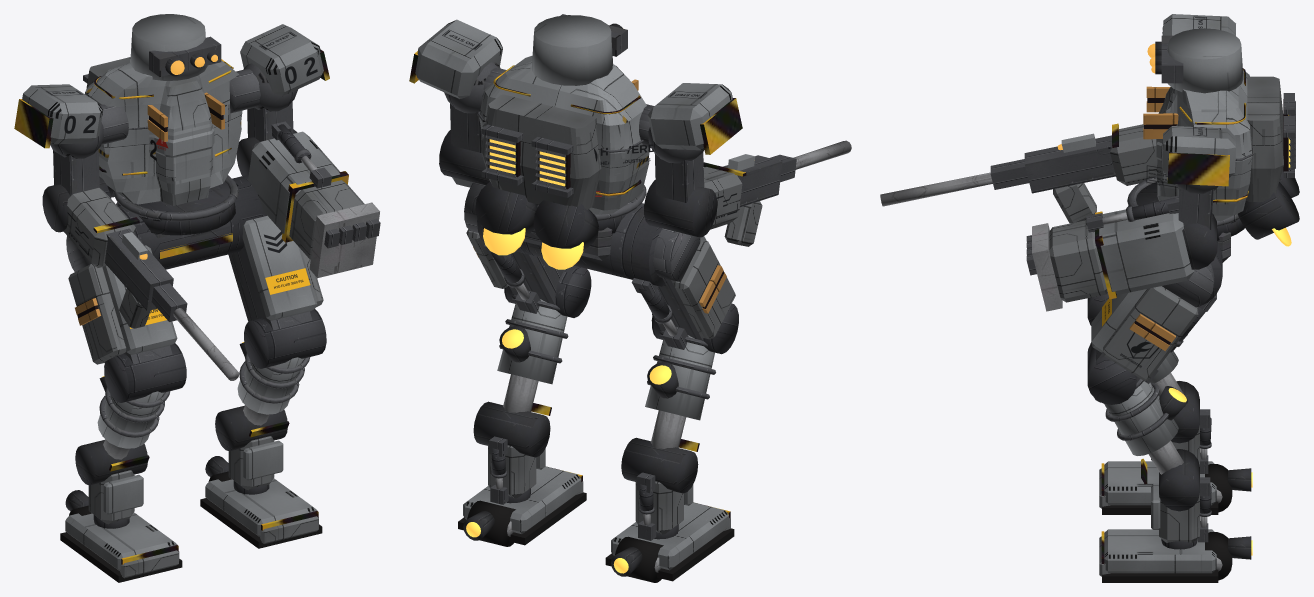
Rendered from mech_roustabout.glb.
The picture shows the model from 3 angles, left to right: view 1: azimuth 30°, elevation 25°; view 2: azimuth 150°, elevation 25°; view 3: azimuth 270°, elevation 25°; orthographic projection. The views are drawn at different scales.
Visible parts, largest first — view 1: cockpit_roustabout_armor.001, thigh_L_roustabout_armor.001, forearm_L_roustabout_armor.001, pelvis_roustabout_dark.001, shoulder_L_roustabout_armor.001, hand_R_roustabout_frame.001, shin_L_roustabout_dark.001, head_roustabout_armor.001, foot_R_roustabout_armor.001, foot_L_roustabout_armor.001, shin_R_roustabout_dark.001, hand_L_roustabout_metal (+42 smaller); view 2: cockpit_roustabout_armor.001, cockpit_roustabout_armor2.001, head_roustabout_armor.001, cockpit_roustabout_dark.001, shoulder_L_roustabout_armor.001, shoulder_R_roustabout_armor.001, pelvis_roustabout_dark.001, thigh_R_roustabout_frame.001, cockpit_roustabout_frame.001, hock_R_roustabout_dark.001, hock_L_roustabout_dark.001, foot_L_roustabout_armor.001 (+33 smaller); view 3: forearm_L_roustabout_armor.001, cockpit_roustabout_armor.001, hand_R_roustabout_frame.001, thigh_L_roustabout_armor2.001, cockpit_roustabout_armor2.001, head_roustabout_armor.001, foot_L_roustabout_armor.001, hand_L_roustabout_armor2.001, shin_L_roustabout_armor.001, shin_L_roustabout_dark.001, foot_R_roustabout_armor.001, cockpit_roustabout_dark.001 (+25 smaller).
Part boxes in pixels (x1,y1,x2,y2): cockpit_roustabout_armor.001: [85, 60, 242, 205]; thigh_L_roustabout_armor.001: [242, 215, 317, 320]; forearm_L_roustabout_armor.001: [248, 131, 339, 233]; pelvis_roustabout_dark.001: [118, 175, 266, 269]; shoulder_L_roustabout_armor.001: [240, 24, 323, 96]; hand_R_roustabout_frame.001: [104, 228, 187, 321]; shin_L_roustabout_dark.001: [239, 309, 326, 368]; head_roustabout_armor.001: [130, 14, 207, 80]; foot_R_roustabout_armor.001: [65, 512, 177, 571]; foot_L_roustabout_armor.001: [205, 478, 317, 536]; shin_R_roustabout_dark.001: [99, 343, 186, 402]; hand_L_roustabout_metal: [309, 202, 379, 278]; cockpit_roustabout_armor.001: [479, 55, 649, 214]; cockpit_roustabout_armor2.001: [481, 94, 601, 209]; head_roustabout_armor.001: [531, 15, 612, 85]; cockpit_roustabout_dark.001: [475, 181, 598, 249]; shoulder_L_roustabout_armor.001: [415, 19, 502, 99]; shoulder_R_roustabout_armor.001: [647, 83, 732, 150]; pelvis_roustabout_dark.001: [477, 203, 665, 286]; thigh_R_roustabout_frame.001: [631, 228, 703, 349]; cockpit_roustabout_frame.001: [477, 111, 643, 197]; hock_R_roustabout_dark.001: [621, 437, 698, 510]; hock_L_roustabout_dark.001: [473, 401, 550, 474]; foot_L_roustabout_armor.001: [463, 466, 581, 533]; forearm_L_roustabout_armor.001: [1095, 209, 1194, 294]; cockpit_roustabout_armor.001: [1156, 70, 1252, 221]; hand_R_roustabout_frame.001: [990, 135, 1115, 193]; thigh_L_roustabout_armor2.001: [1103, 286, 1198, 380]; cockpit_roustabout_armor2.001: [1246, 76, 1283, 201]; head_roustabout_armor.001: [1167, 28, 1243, 93]; foot_L_roustabout_armor.001: [1104, 529, 1216, 573]; hand_L_roustabout_armor2.001: [1049, 220, 1107, 302]; shin_L_roustabout_armor.001: [1104, 381, 1178, 455]; shin_L_roustabout_dark.001: [1087, 342, 1187, 420]; foot_R_roustabout_armor.001: [1104, 461, 1216, 505]; cockpit_roustabout_dark.001: [1237, 168, 1299, 239].
Size of the model in its own units: 14.48 by 24.07 by 18.49.
Materials: 12 (8 with a texture image).
